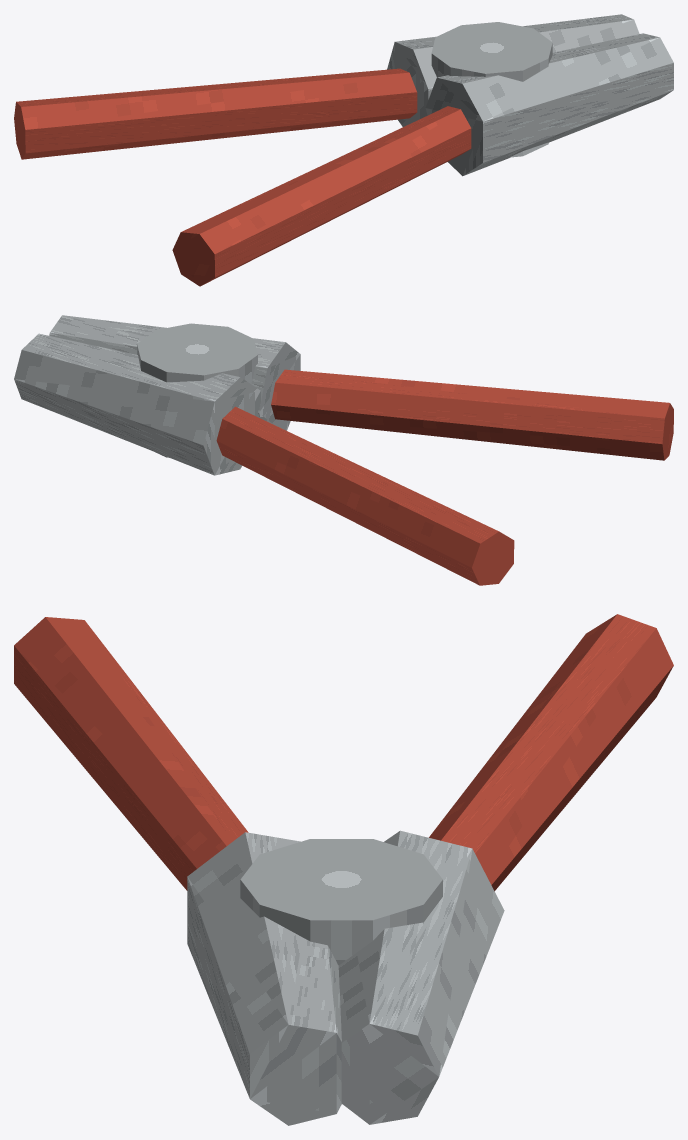
The model's file is boltcutters.glb.
The picture shows the model from 3 angles, top to bottom: view 1: azimuth 30°, elevation 25°; view 2: azimuth 150°, elevation 25°; view 3: azimuth 270°, elevation 25°; orthographic projection. The views are drawn at different scales.
Parts seen in each view (by area): view 1: block_handle (×2), block_jaw (×2), block_hinge; view 2: block_handle (×2), block_jaw (×2), block_hinge; view 3: block_jaw (×2), block_handle (×2), block_hinge.
Part boxes in pixels (left/top/right/bottom): block_handle (×2): left=14, top=68, right=471, bottom=286; block_jaw (×2): left=387, top=14, right=673, bottom=176; block_hinge: left=431, top=22, right=552, bottom=157; block_handle (×2): left=216, top=369, right=673, bottom=585; block_jaw (×2): left=14, top=315, right=300, bottom=475; block_hinge: left=137, top=323, right=257, bottom=457; block_jaw (×2): left=187, top=830, right=504, bottom=1125; block_handle (×2): left=14, top=614, right=673, bottom=891; block_hinge: left=240, top=839, right=442, bottom=965.
Bounding box in the file's own units: 0.46 × 0.0745 × 0.2938.
Materials: 1 (1 with a texture image).
